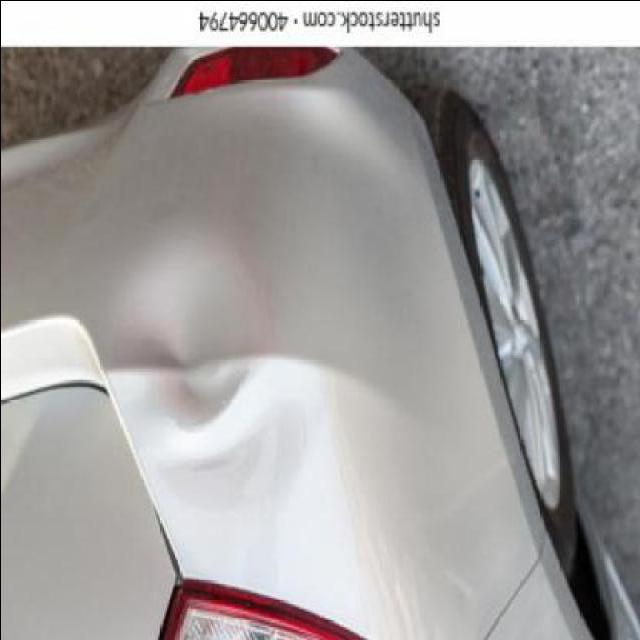rear-bumper-dent: (1, 50, 464, 503)
